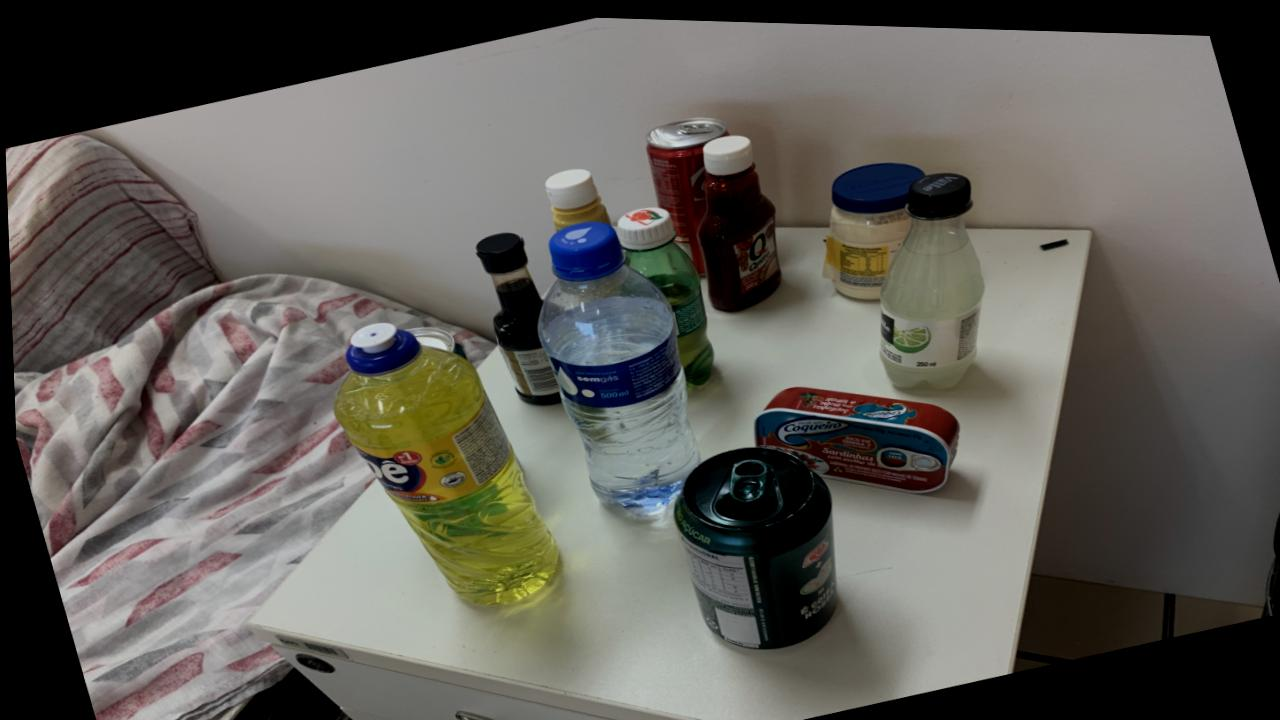Coke-Drinks: (645, 113, 727, 270)
Detergent-Cleanup_Items: (330, 320, 554, 601)
English_Sauce-Pantry_Items: (474, 229, 559, 402)
Guarana-Drinks: (614, 203, 712, 382)
Guarana_Can-Drinks: (670, 443, 834, 645)
Ketchup-Pantry_Items: (696, 131, 780, 307)
Mayonnaise-Pantry_Items: (823, 157, 924, 295)
Mustard-Pantry_Items: (544, 165, 610, 226)
Soda-Drinks: (878, 167, 983, 383)
Tuna_Can-Pantry_Items: (751, 381, 957, 488)
Water_Bottle-Drinks: (535, 217, 696, 510)
